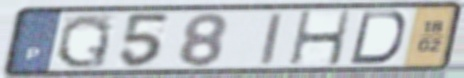5: (115, 10, 174, 70)
8: (176, 11, 231, 69)
D: (346, 10, 409, 66)
H: (287, 8, 354, 67)
I: (257, 10, 286, 67)
Q: (53, 12, 115, 70)
